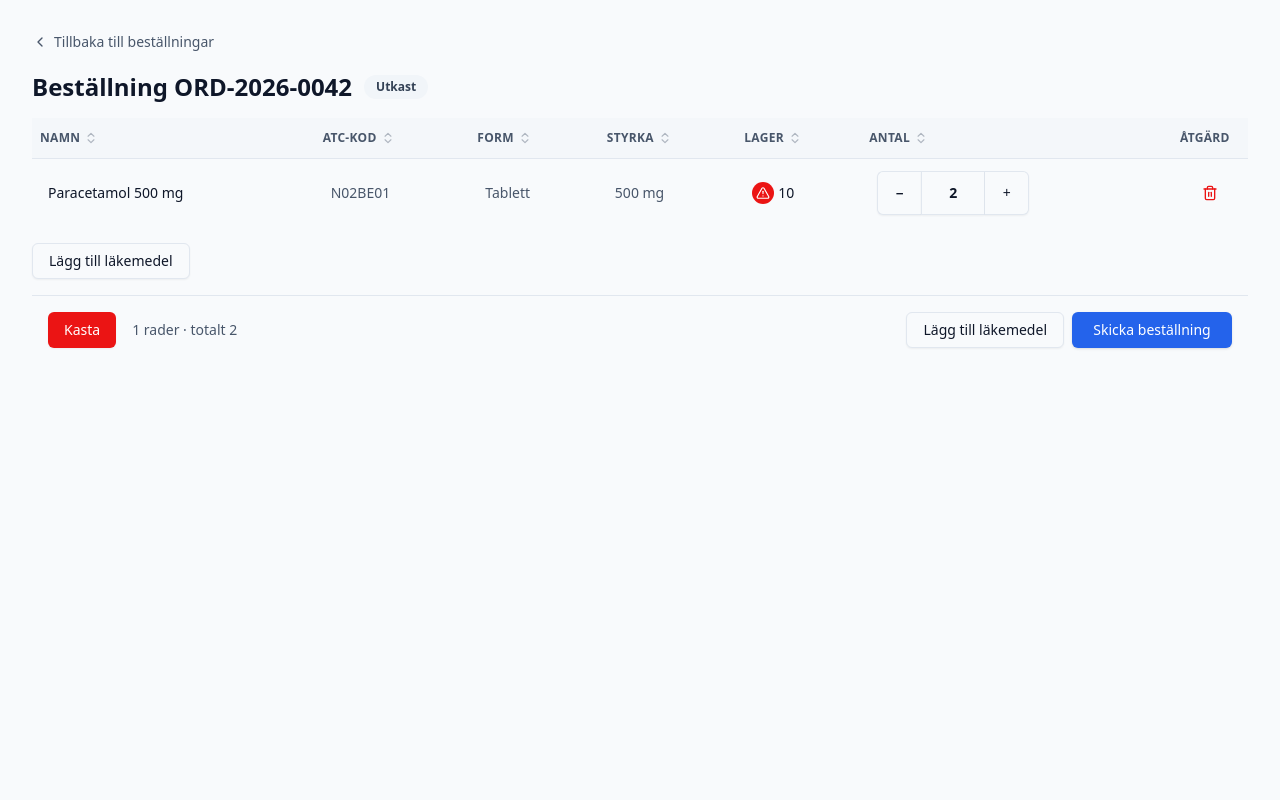
ComposeOrderPage › (6) "Lägg till läkemedel" opens the picker sheet › renders MedicationPickerSheet (SheetTitle) after clicking the desktop add button
Click the 1st button "Lägg till läkemedel" at (111, 260), box top-left (32, 242), bottom-right (190, 278)
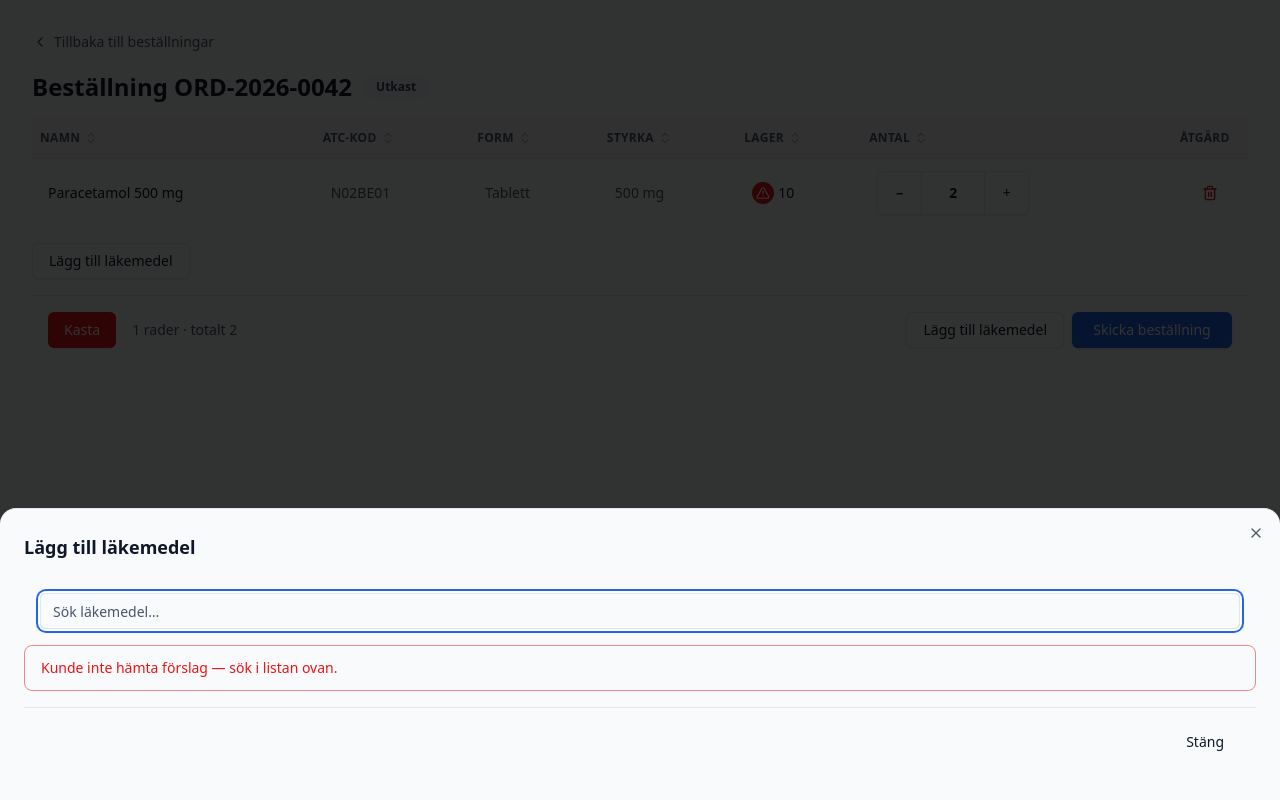
Expected: the field with placeholder "Sök läkemedel…" is shown, top-left (40, 593), bottom-right (1240, 629)
